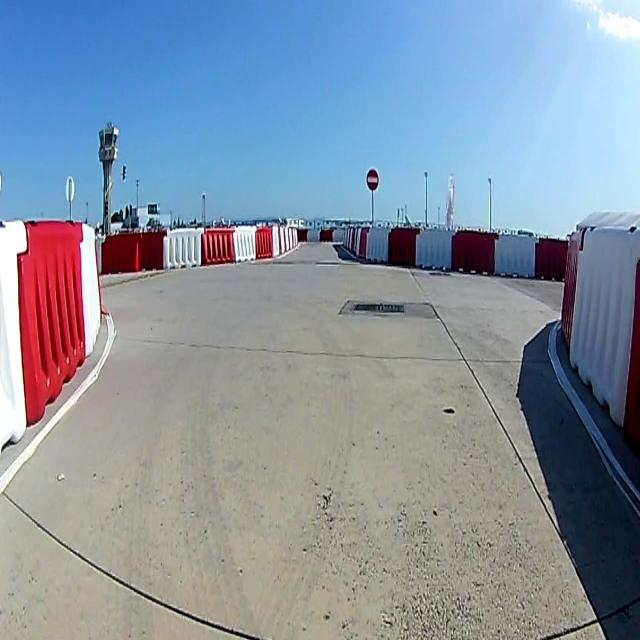girisyok: (366, 168, 379, 190)
